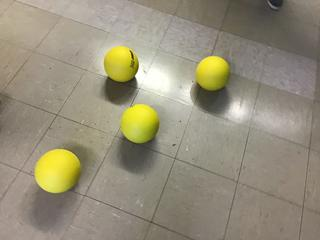power_cell: (36, 149, 83, 193), (122, 103, 161, 146), (102, 45, 143, 83), (192, 54, 232, 92)
